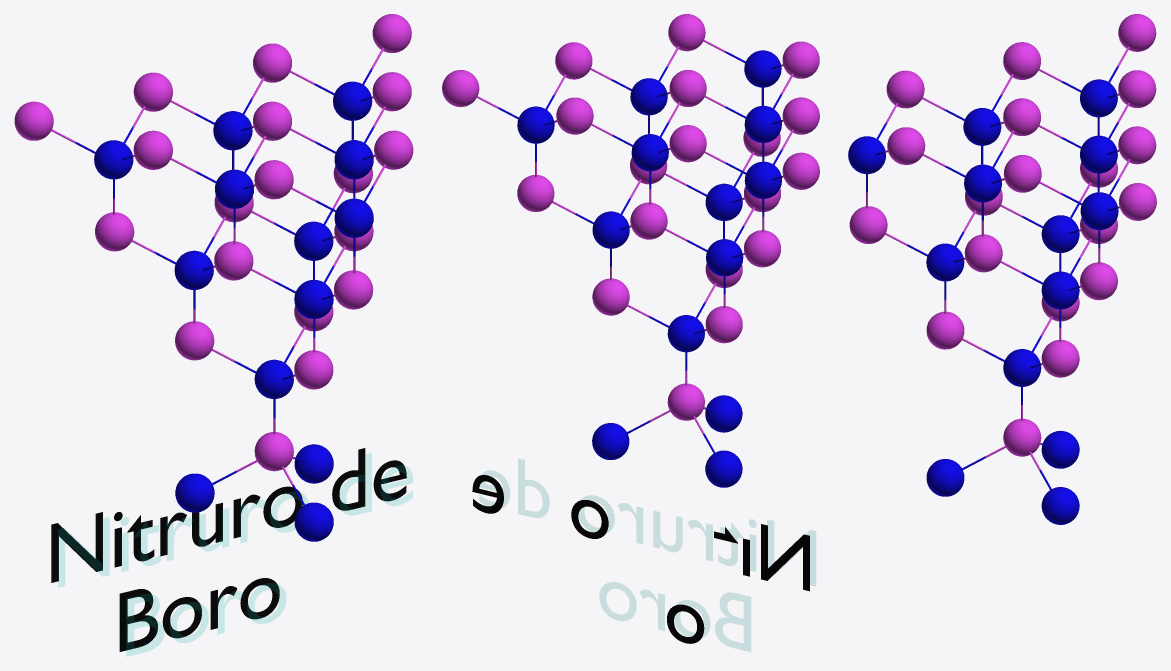
File: nitruro de boro.glb
3 renders of one model, left to right at view 1: azimuth 30°, elevation 25°; view 2: azimuth 150°, elevation 25°; view 3: azimuth 270°, elevation 25°, orthographic. The views are drawn at different scales.
Parts seen in each view (by area): view 1: Text.001, Text, Sphere.200, Sphere.076, Sphere.202, Sphere.203, Sphere.077, Sphere.081, Sphere.079, Sphere.083, Sphere.198, Sphere.213 (+18 smaller); view 2: Text, Text.001, Sphere.077, Sphere.200, Sphere.213, Sphere.212, Sphere.204, Sphere.202, Sphere.207, Sphere.080, Sphere.087, Sphere.198 (+18 smaller); view 3: Sphere.076, Sphere.207, Sphere.079, Sphere.212, Sphere.202, Sphere.080, Sphere.204, Sphere.078, Sphere.090, Sphere.089, Sphere.198, Sphere.229 (+20 smaller).
Part boxes in pixels (x1=…): Text.001: x1=51, y1=448, x2=406, y2=651; Text: x1=58, y1=453, x2=412, y2=655; Sphere.200: x1=14, y1=101, x2=53, y2=140; Sphere.076: x1=294, y1=502, x2=333, y2=541; Sphere.202: x1=254, y1=160, x2=293, y2=199; Sphere.203: x1=334, y1=198, x2=373, y2=237; Sphere.077: x1=175, y1=473, x2=214, y2=512; Sphere.081: x1=175, y1=321, x2=214, y2=360; Sphere.079: x1=294, y1=350, x2=333, y2=389; Sphere.083: x1=214, y1=241, x2=253, y2=280; Sphere.198: x1=133, y1=130, x2=172, y2=169; Sphere.213: x1=133, y1=72, x2=172, y2=111; Text: x1=480, y1=459, x2=815, y2=651; Text.001: x1=472, y1=475, x2=809, y2=643; Sphere.077: x1=705, y1=450, x2=742, y2=487; Sphere.200: x1=782, y1=152, x2=819, y2=189; Sphere.213: x1=669, y1=125, x2=706, y2=162; Sphere.212: x1=556, y1=97, x2=593, y2=134; Sphere.204: x1=555, y1=42, x2=592, y2=79; Sphere.202: x1=782, y1=41, x2=819, y2=78; Sphere.207: x1=668, y1=14, x2=705, y2=51; Sphere.080: x1=592, y1=278, x2=629, y2=315; Sphere.087: x1=630, y1=202, x2=667, y2=239; Sphere.198: x1=782, y1=97, x2=819, y2=134; Sphere.076: x1=926, y1=459, x2=964, y2=496; Sphere.207: x1=887, y1=127, x2=925, y2=164; Sphere.079: x1=926, y1=311, x2=964, y2=349; Sphere.212: x1=1118, y1=126, x2=1156, y2=164; Sphere.202: x1=886, y1=70, x2=924, y2=108; Sphere.080: x1=1041, y1=339, x2=1079, y2=377; Sphere.204: x1=1003, y1=155, x2=1041, y2=192; Sphere.078: x1=1041, y1=487, x2=1079, y2=524; Sphere.090: x1=964, y1=234, x2=1002, y2=272; Sphere.089: x1=849, y1=206, x2=887, y2=243; Sphere.198: x1=1003, y1=42, x2=1040, y2=79; Sphere.229: x1=1119, y1=183, x2=1156, y2=220.
Size of the model in its own units: 14.8 by 20.1 by 10.44.
